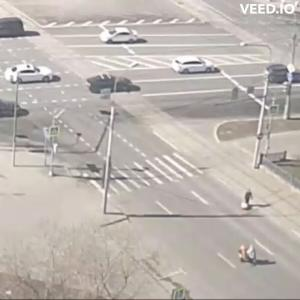car: (101, 25, 150, 48), (88, 74, 135, 95), (2, 17, 43, 41), (11, 67, 59, 85), (172, 59, 219, 77), (1, 100, 24, 120), (268, 65, 289, 85), (286, 65, 296, 84)
